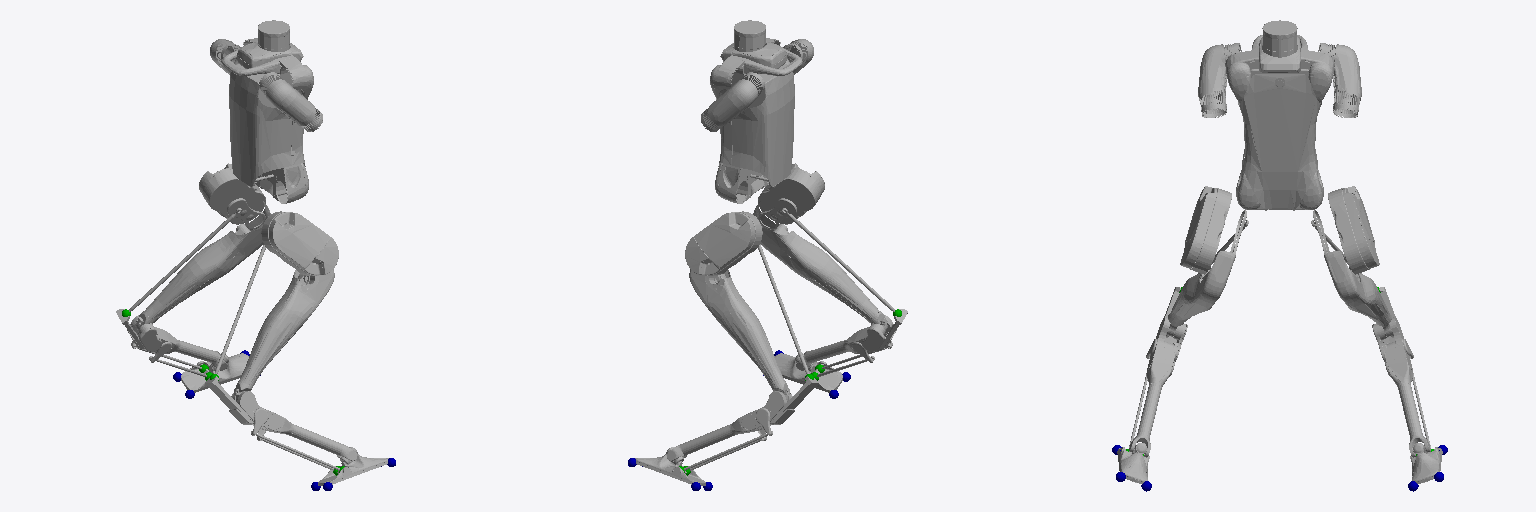
--- What the picture shows (computed from the rendered views, not written in the file) ---
3 views of the same robot in one strip: view 1: azimuth 30°, elevation 25°; view 2: azimuth 150°, elevation 25°; view 3: azimuth 270°, elevation 25° (orthographic).
Model digit with 67 links and 66 joints (40 revolute, 26 fixed), rooted at torso, posed every joint at zero.
Visible links, largest first — view 1: torso, left_shin, right_shin, right_hip_pitch, left_hip_pitch, right_tarsus, right_shoulder_pitch, left_tarsus, left_toe_roll, right_waist_cap, right_toe_roll, right_shoulder_cap (+2 smaller); view 2: torso, right_shin, left_shin, left_hip_pitch, right_hip_pitch, left_tarsus, left_shoulder_pitch, right_tarsus, right_toe_roll, left_waist_cap, left_toe_roll, left_shoulder_cap (+3 smaller); view 3: torso, left_hip_pitch, right_hip_pitch, left_tarsus, right_tarsus, left_shin, right_shin, left_shoulder_pitch, right_shoulder_pitch, left_shoulder_cap, right_shoulder_cap, left_toe_roll (+3 smaller).
Link boxes in pixels (x1,y1,x2,y2): torso: (221, 20, 307, 195); left_shin: (136, 201, 270, 330); right_shin: (234, 269, 334, 401); right_hip_pitch: (261, 211, 338, 275); left_hip_pitch: (199, 163, 265, 229); right_tarsus: (229, 391, 356, 460); right_shoulder_pitch: (259, 72, 322, 131); left_tarsus: (127, 315, 227, 370); left_toe_roll: (181, 353, 248, 392); right_waist_cap: (273, 159, 308, 203); right_toe_roll: (318, 447, 388, 485); right_shoulder_cap: (279, 57, 313, 98); torso: (716, 20, 802, 195); right_shin: (753, 201, 887, 330); left_shin: (689, 269, 789, 401); left_hip_pitch: (685, 211, 762, 275); right_hip_pitch: (758, 163, 824, 229); left_tarsus: (667, 391, 794, 460); left_shoulder_pitch: (701, 72, 764, 131); right_tarsus: (796, 315, 896, 370); right_toe_roll: (775, 353, 842, 392); left_waist_cap: (715, 159, 750, 203); left_toe_roll: (635, 447, 705, 485); left_shoulder_cap: (710, 57, 744, 98); torso: (1238, 20, 1321, 209); left_hip_pitch: (1313, 186, 1379, 274); right_hip_pitch: (1180, 186, 1246, 274); left_tarsus: (1372, 317, 1430, 457); right_tarsus: (1129, 317, 1187, 457); left_shin: (1324, 251, 1393, 337); right_shin: (1166, 251, 1235, 337); left_shoulder_pitch: (1318, 43, 1361, 117); right_shoulder_pitch: (1198, 43, 1241, 117); left_shoulder_cap: (1305, 50, 1334, 103); right_shoulder_cap: (1225, 50, 1254, 103); left_toe_roll: (1410, 443, 1442, 483).
Bounding box of the posed robot: 0.5717 × 0.9632 × 1.42 m (x, y, z).
Meshes: 19 distinct files referenced, 27 mesh visuals loaded (12 binary STL); not drawn: 14 (reference not matched to a file when rendering).

robot.urdf — digit:
<?xml version="1.0" encoding="utf-8"?>
<robot name="digit">

    <link name="torso">
        <inertial>
            <origin rpy="0 0 0" xyz="0.001637 0.0002 0.259547"/>
            <mass value="15.028392"/>
            <inertia ixx="0.376284" ixy="-8.8e-05" ixz="0.008378" iyy="0.342655" iyz="6.7e-05" izz="0.100648"/>
        </inertial>
        <visual>
            <origin rpy="0 0 0" xyz="0 0 0"/>
            <geometry>
                <mesh filename="package://digit_description//meshes_new/torso.stl"/>
            </geometry>

            <material name="LightGrey">
                <color rgba="0.7 0.7 0.7 1.0"/>
            </material>
        </visual>
        <collision>
            <origin rpy="0 0 0" xyz="0 0 0"/>
            <geometry>
                <mesh filename="package://digit_description//meshes_new/torso.stl"/>
            </geometry>
        </collision>
    </link>

    <joint name="left_waist_cap_joint" type="fixed">
        <origin rpy="-1.57079632679 1.57 1.57079632679" xyz="-0.001 0.09 0.0"/>
        <axis xyz="0 0 1"/>
        <parent link="torso"/>
        <child link="left_waist_cap"/>
        <limit effort="1.4" lower="-1.309" upper="1.309" velocity="12.5"/>
    </joint>

    <link name="left_waist_cap">
        <inertial>
            <origin rpy="0 0 0" xyz="9e-06 0.003158 0.023405"/>
            <mass value="0.535396"/>
            <inertia ixx="0.000704" ixy="-1.4e-05" ixz="1.2e-05" iyy="0.00075" iyz="-3.5e-05" izz="0.000298"/>
        </inertial>
        <visual>
            <origin rpy="0 0 0" xyz="0 0 0"/>
            <geometry>
                <mesh filename="package://digit_description//meshes_new/shoulder-roll-housing.stl" scale="1 -1 1"/>
            </geometry>
            <material name="LightGrey">
                <color rgba="0.7 0.7 0.7 1.0"/>
            </material>
        </visual>
        <collision>
            <origin rpy="0 0 0" xyz="0 0 0"/>
            <geometry>
                <mesh filename="package://digit_description//meshes_new/shoulder-roll-housing.stl" scale="1 -1 1"/>
            </geometry>
        </collision>
    </link>

    <joint name="left-hip-roll_joint" type="revolute">
        <origin rpy="1.57079632679 -1.1955506 -1.57079632679" xyz="-0.001 0.091 0"/>
        <axis xyz="0 0 1"/>
        <parent link="torso"/>
        <child link="left_hip_roll"/>
        <limit effort="1.4" lower="-1.0472" upper="1.0472" velocity="12.15"/>
    </joint>
    <link name="left_hip_roll">
        <inertial>
            <origin rpy="0 0 0" xyz="-0.001967 0.000244 0.031435"/>
            <mass value="0.915088"/>
            <inertia ixx="0.001017" ixy="-3e-06" ixz="1.3e-05" iyy="0.001148" iyz="-4e-06" izz="0.000766"/>
        </inertial>
        <visual>
            <origin rpy="0 0 0" xyz="0 0 0"/>
            <geometry>
                <mesh filename="package://digit_description//meshes_new/hip-yaw-housing.stl"/>
            </geometry>

            <material name="LightGrey">
                <color rgba="0.7 0.7 0.7 1.0"/>
            </material>
            <material name="LightGrey">
                <color rgba="0.7 0.7 0.7 1.0"/>
            </material>
        </visual>
        <collision>
            <origin rpy="0 0 0" xyz="0 0 0"/>
            <geometry>
                <mesh filename="package://digit_description//meshes_new/hip-yaw-housing.stl"/>
            </geometry>
        </collision>
    </link>

    <joint name="left_hip_yaw_joint" type="revolute">
        <origin rpy="0 -1.57079632679 0" xyz="-0.0505 0 0.044"/>
        <axis xyz="0 0 1"/>
        <parent link="left_hip_roll"/>
        <child link="left_hip_yaw"/>
        <limit effort="1.4" lower="-0.698132" upper="0.698132" velocity="12.15"/>
    </joint>

    <link name="left_hip_yaw">
        <inertial>
            <origin rpy="0 0 0" xyz="1e-05 -0.001945 0.042033"/>
            <mass value="0.818753"/>
            <inertia ixx="0.001627" ixy="-1e-06" ixz="2e-06" iyy="0.001929" iyz="5.3e-05" izz="0.00077"/>
        </inertial>
        <visual>
            <origin rpy="0 0 0" xyz="0 0 0"/>
            <geometry>
                <mesh filename="package://digit_description//meshes_new/hip-pitch-housing.stl"/>
            </geometry>

            <material name="LightGrey">
                <color rgba="0.7 0.7 0.7 1.0"/>
            </material>
        </visual>
        <collision>
            <origin rpy="0 0 0" xyz="0 0 0"/>
            <geometry>
                <mesh filename="package://digit_description//meshes_new/hip-pitch-housing.stl"/>
            </geometry>
        </collision>
    </link>

    <joint name="left_hip_pitch_joint" type="revolute">
        <origin rpy="-1.57079632679 -0.7853981 3.1415927" xyz="0 0.004 0.068"/>
        <axis xyz="0 0 -1"/>
        <parent link="left_hip_yaw"/>
        <child link="left_hip_pitch"/>
        <limit effort="12.5" lower="-1.0472" upper="1.57079632679" velocity="8.5"/>
    </joint>

    <link name="left_hip_pitch">
        <inertial>
            <origin rpy="0 0 0" xyz="0.060537 0.000521 -0.038857"/>
            <mass value="6.244279"/>
            <inertia ixx="0.011533" ixy="-0.000171" ixz="0.000148" iyy="0.033345" iyz="0.000178" izz="0.033958"/>
        </inertial>
        <visual>
            <origin rpy="0 0 0" xyz="0 0 0"/>
            <geometry>
                <mesh filename="package://digit_description//meshes_new/hip-pitch.stl"/>
            </geometry>

            <material name="LightGrey">
                <color rgba="0.7 0.7 0.7 1.0"/>
            </material>
        </visual>
        <collision>
            <origin rpy="0 0 0" xyz="0 0 0"/>
            <geometry>
                <mesh filename="package://digit_description//meshes_new/hip-pitch.stl"/>
            </geometry>
        </collision>
    </link>

    <joint name="left_achillies_rod_joint1" type="revolute">
        <origin rpy="0.0087529 0.0708516 -1.435541" xyz="0 0 0.046"/>
        <axis xyz="0 1 0"/>
        <parent link="left_hip_pitch"/>
        <child link="left_achillies_rod_parent"/>
        <limit effort="12.5" lower="-1.5" upper="1.5" velocity="8.5085"/>
    </joint>

    <link name="left_achillies_rod_parent"/>

    <joint name="left_achillies_rod_joint2" type="revolute">
        <origin rpy="0 0 0" xyz="0 0 0"/>
        <axis xyz="0 0 1"/>
        <parent link="left_achillies_rod_parent"/>
        <child link="left_achillies_rod"/>
        <limit effort="12.5" lower="-1.5" upper="1.5" velocity="8.5085"/>
    </joint>

    <link name="left_achillies_rod">
        <inertial>
            <origin rpy="0 0 0" xyz="0.2506 0 0"/>
            <mass value="0.178148"/>
            <inertia ixx="3e-06" ixy="0" ixz="0" iyy="0.004501" iyz="0" izz="0.004501"/>
        </inertial>
        <visual>
            <origin rpy="0 0 0" xyz="0 0 0"/>
            <geometry>
                <mesh filename="package://digit_description//meshes_new/achilles-rod.stl"/>
            </geometry>

            <material name="LightGrey">
                <color rgba="0.7 0.7 0.7 1.0"/>
            </material>
        </visual>
        <collision>
            <origin rpy="0 0 0" xyz="0 0 0"/>
            <geometry>
                <mesh filename="package://digit_description//meshes_new/achilles-rod.stl"/>
            </geometry>
        </collision>
    </link>

    <joint name="left_knee_joint" type="revolute">
        <origin rpy="0 0 -1.57079632679" xyz="0.12 0 0.0045"/>
        <axis xyz="0 0 1"/>
        <parent link="left_hip_pitch"/>
        <child link="left_knee"/>
        <limit effort="12.5" lower="-1.2392" upper="0.8727" velocity="8.5085"/>
    </joint>

    <link name="left_knee">
        <inertial>
            <origin rpy="0 0 0" xyz="0.045641 0.042154 0.001657"/>
            <mass value="1.227077"/>
            <inertia ixx="0.002643" ixy="-0.001832" ixz="6.6e-05" iyy="0.005098" iyz="4.5e-05" izz="0.007019"/>
        </inertial>
        <visual>
            <origin rpy="0 0 0" xyz="0 0 0"/>
            <geometry>
                <mesh filename="package://digit_description//meshes_new/knee.stl"/>
            </geometry>

            <material name="LightGrey">
                <color rgba="0.7 0.7 0.7 1.0"/>
            </material>
        </visual>
        <collision>
            <origin rpy="0 0 0" xyz="0 0 0"/>
            <geometry>
                <mesh filename="package://digit_description//meshes_new/knee.stl"/>
            </geometry>
        </collision>
    </link>

    <joint name="left_shin_joint" type="fixed">
        <origin rpy="0 0 0" xyz="0.060677 0.047406 0"/>
        <axis xyz="0 0 1"/>
        <parent link="left_knee"/>
        <child link="left_shin"/>
        <limit effort="0" lower="-0.35" upper="0.35" velocity="10"/>
    </joint>

    <link name="left_shin">
        <inertial>
            <origin rpy="0 0 0" xyz="0.174265 0.010265 0.00107"/>
            <mass value="0.895793"/>
            <inertia ixx="0.001128" ixy="0.001098" ixz="0.000196" iyy="0.022492" iyz="-3e-06" izz="0.022793"/>
        </inertial>
        <visual>
            <origin rpy="0 0 0" xyz="0 0 0"/>
            <geometry>
                <mesh filename="package://digit_description//meshes_new/shin.stl"/>
            </geometry>

            <material name="LightGrey">
                <color rgba="0.7 0.7 0.7 1.0"/>
            </material>
        </visual>
        <collision>
            <origin rpy="0 0 0" xyz="0 0 0"/>
            <geometry>
                <mesh filename="package://digit_description//meshes_new/shin.stl"/>
            </geometry>
        </collision>
    </link>

    <joint name="left_tarsus_joint" type="revolute">
        <origin rpy="0 0 1.7976891" xyz="0.434759 0.02 0"/>
        <axis xyz="0 0 1"/>
        <parent link="left_shin"/>
        <child link="left_tarsus"/>
        <limit effort="0" lower="-0.8779" upper="1.2497" velocity="20"/>
    </joint>

    <link name="left_tarsus">
        <inertial>
            <origin rpy="0 0 0" xyz="0.100777 -0.029183 0.000678"/>
            <mass value="1.322865"/>
            <inertia ixx="0.000932" ixy="0.00061" ixz="0.000102" iyy="0.016409" iyz="9e-06" izz="0.016501"/>
        </inertial>
        <visual>
            <origin rpy="0 0 0" xyz="0 0 0"/>
            <geometry>
                <mesh filename="package://digit_description//meshes_new/tarsus.stl"/>
            </geometry>

            <material name="LightGrey">
                <color rgba="0.7 0.7 0.7 1.0"/>
            </material>
        </visual>
        <collision>
            <origin rpy="0 0 0" xyz="0 0 0"/>
            <geometry>
                <mesh filename="package://digit_description//meshes_new/tarsus.stl"/>
            </geometry>
        </collision>
    </link>

    <joint name="left_heel_spring_joint" type="revolute">
        <origin rpy="-0.0689073 -0.0370354 2.7207176" xyz="-0.01766 -0.029456 0.00104"/>
        <axis xyz="0 0 1"/>
        <parent link="left_tarsus"/>
        <child link="left_heel_spring"/>
        <limit effort="0.9" lower="-0.104719753333" upper="0.104719753333" velocity="11.5"/>
    </joint>

    <link name="left_heel_spring">
        <inertial>
            <origin rpy="0 0 0" xyz="0.049086 0.004739 -4.5e-05"/>
            <mass value="0.230018"/>
            <inertia ixx="5.5e-05" ixy="1.5e-05" ixz="1e-06" iyy="0.00074" iyz="0" izz="0.000701"/>
        </inertial>
        <visual>
            <origin rpy="0 0 0" xyz="0 0 0"/>
            <geometry>
                <mesh filename="package://digit_description//meshes_new/heel-spring.stl"/>
            </geometry>

            <material name="LightGrey">
                <color rgba="0.7 0.7 0.7 1.0"/>
            </material>
        </visual>
        <collision>
            <origin rpy="0 0 0" xyz="0 0 0"/>
            <geometry>
                <mesh filename="package://digit_description//meshes_new/heel-spring.stl"/>
            </geometry>
        </collision>
    </link>

    <joint name="left_toe_A_joint" type="revolute">
        <origin rpy="3.1415927 0 -1.6050048" xyz="0.059 -0.034 -0.0276"/>
        <axis xyz="0 0 1"/>
        <parent link="left_tarsus"/>
        <child link="left_toe_A"/>
        <limit effort="0.9" lower="-0.912807183222" upper="1.2644910215" velocity="11.5"/>
    </joint>

    <link name="left_toe_A">
        <inertial>
            <origin rpy="0 0 0" xyz="0.005161 1e-06 -0.002248"/>
            <mass value="0.139557"/>
            <inertia ixx="2.9e-05" ixy="0" ixz="-4e-06" iyy="5.8e-05" iyz="0" izz="7.4e-05"/>
        </inertial>
        <visual>
            <origin rpy="0 0 0" xyz="0 0 0"/>
            <geometry>
                <mesh filename="package://digit_description//meshes_new/toe-output.stl"/>
            </geometry>

            <material name="LightGrey">
                <color rgba="0.7 0.7 0.7 1.0"/>
            </material>
        </visual>
        <collision>
            <origin rpy="0 0 0" xyz="0 0 0"/>
            <geometry>
                <mesh filename="package://digit_description//meshes_new/toe-output.stl"/>
            </geometry>
        </collision>
    </link>

    <joint name="left_toe_A_rod_parent_joint" type="revolute">
        <origin rpy="-0.0374899 0.0049742 -1.5964351" xyz="0.057 0 -0.008"/>
        <axis xyz="0 1 0"/>
        <parent link="left_toe_A"/>
        <child link="left_toe_A_rod_parent"/>
        <limit effort="0.9" lower="-3.785398163397" upper="3.785398163397" velocity="11.5"/>
    </joint>

    <link name="left_toe_A_rod_parent" />

    <joint name="left_toe_A_rod_joint" type="revolute">
        <origin rpy="0 0 0" xyz="0 0 0"/>
        <axis xyz="0 0 1"/>
        <parent link="left_toe_A_rod_parent"/>
        <child link="left_toe_A_rod"/>
        <limit effort="0.9" lower="-3.785398163397" upper="3.785398163397" velocity="11.5"/>
    </joint>

    <link name="left_toe_A_rod">
        <inertial>
            <origin rpy="0 0 0" xyz="0.171071 0 0"/>
            <mass value="0.090983"/>
            <inertia ixx="1e-06" ixy="0" ixz="0" iyy="0.001182" iyz="0" izz="0.001182"/>
        </inertial>
        <visual>
            <origin rpy="0 0 0" xyz="0 0 0"/>
            <geometry>
                <mesh filename="package://digit_description//meshes_new/toe-A-rod.stl"/>
            </geometry>

            <material name="LightGrey">
                <color rgba="0.7 0.7 0.7 1.0"/>
            </material>
        </visual>
        <collision>
            <origin rpy="0 0 0" xyz="0 0 0"/>
            <geometry>
                <mesh filename="package://digit_description//meshes_new/toe-A-rod.stl"/>
            </geometry>
        </collision>
    </link>

    <joint name="left_toe_B_joint" type="revolute">
        <origin rpy="0 0 -1.6049813" xyz="0.111 -0.034 0.0276"/>
        <axis xyz="0 0 1"/>
        <parent link="left_tarsus"/>
        <child link="left_toe_B"/>
        <limit effort="0.9" lower="-0.912807183222" upper="1.2644910215" velocity="11.5"/>
    </joint>

    <link name="left_toe_B">
        <inertial>
            <origin rpy="0 0 0" xyz="0.005161 1e-06 -0.002248"/>
            <mass value="0.139557"/>
            <inertia ixx="2.9e-05" ixy="0" ixz="-4e-06" iyy="5.8e-05" iyz="0" izz="7.4e-05"/>
        </inertial>
        <visual>
            <origin rpy="0 0 0" xyz="0 0 0"/>
            <geometry>
                <mesh filename="package://digit_description//meshes_new/toe-output.stl"/>
            </geometry>

            <material name="LightGrey">
                <color rgba="0.7 0.7 0.7 1.0"/>
            </material>
        </visual>
        <collision>
            <origin rpy="0 0 0" xyz="0 0 0"/>
            <geometry>
                <mesh filename="package://digit_description//meshes_new/toe-output.stl"/>
            </geometry>
        </collision>
    </link>

    <joint name="left_toe_B_rod_parent_joint" type="revolute">
        <origin rpy="-0.0536482 0.0051326 1.5948474" xyz="0.057 0 -0.008"/>
        <axis xyz="0 1 0"/>
        <parent link="left_toe_B"/>
        <child link="left_toe_B_rod_parent"/>
        <limit effort="0.9" lower="-3.785398163397" upper="3.785398163397" velocity="11.5"/>
    </joint>

    <link name="left_toe_B_rod_parent" />

    <joint name="left_toe_B_rod_joint" type="revolute">
        <origin rpy="0 0 0" xyz="0 0 0"/>
        <axis xyz="0 0 1"/>
        <parent link="left_toe_B_rod_parent"/>
        <child link="left_toe_B_rod"/>
        <limit effort="0.9" lower="-3.785398163397" upper="3.785398163397" velocity="11.5"/>
    </joint>

    <link name="left_toe_B_rod">
        <inertial>
            <origin rpy="0 0 0" xyz="0.142991 0 0"/>
            <mass value="0.079507"/>
            <inertia ixx="1e-06" ixy="0" ixz="0" iyy="0.000768" iyz="0" izz="0.000768"/>
        </inertial>
        <visual>
            <origin rpy="0 0 0" xyz="0 0 0"/>
            <geometry>
                <mesh filename="package://digit_description//meshes_new/toe-B-rod.stl"/>
            </geometry>

            <material name="LightGrey">
                <color rgba="0.7 0.7 0.7 1.0"/>
            </material>
        </visual>
        <collision>
            <origin rpy="0 0 0" xyz="0 0 0"/>
            <geometry>
                <mesh filename="package://digit_description//meshes_new/toe-B-rod.stl"/>
            </geometry>
        </collision>
    </link>

    <joint name="left_toe_pitch_joint" type="revolute">
        <origin rpy="0 0 1.1956" xyz="0.408 -0.04 0"/>
        <axis xyz="0 0 1"/>
        <parent link="left_tarsus"/>
        <child link="left_toe_pitch"/>
        <limit effort="0.9" lower="-0.785398163397" upper="0.785398163397" velocity="11.5"/>
    </joint>

    <link name="left_toe_pitch">
        <inertial>
            <origin rpy="0 0 0" xyz="-0.000141 2e-06 3e-06"/>
            <mass value="0.043881"/>
            <inertia ixx="5e-06" ixy="0" ixz="0" iyy="8e-06" iyz="0" izz="5e-06"/>
        </inertial>
        <visual>
            <origin rpy="0 0 0" xyz="0 0 0"/>
            <geometry>
                <mesh filename="package://digit_description//meshes_new/toe-pitch.stl"/>
            </geometry>

            <material name="LightGrey">
                <color rgba="0.7 0.7 0.7 1.0"/>
            </material>
        </visual>
        <collision>
            <origin rpy="0 0 0" xyz="0 0 0"/>
            <geometry>
                <mesh filename="package://digit_description//meshes_new/toe-pitch.stl"/>
            </geometry>
        </collision>
    </link>

    <joint name="left_toe_roll_joint" type="revolute">
        <origin rpy="0 1.57079632679 0" xyz="0 0 0"/>
        <axis xyz="0 0 1"/>
        <parent link="left_toe_pitch"/>
        <child link="left_toe_roll"/>
        <limit effort="0.9" lower="-0.6109" upper="0.6109" velocity="11.5"/>
    </joint>

    <link name="left_toe_roll">
        <inertial>
            <origin rpy="0 0 0" xyz="9e-06 -0.028084 -0.023204"/>
            <mass value="0.531283"/>
            <inertia ixx="0.00187" ixy="0" ixz="0" iyy="0.001616" iyz="0.000566" izz="0.000843"/>
        </inertial>
        <visual>
            <origin rpy="0 0 0" xyz="0 0 0"/>
            <geometry>
                <mesh filename="package://digit_description//meshes_new/toe-roll.stl"/>
            </geometry>

            <material name="LightGrey">
                <color rgba="0.7 0.7 0.7 1.0"/>
            </material>
        </visual>
        <collision>
            <origin rpy="0 0 0" xyz="0 0 0"/>
            <geometry>
                <mesh filename="package://digit_description//meshes_new/toe-roll.stl"/>
            </geometry>
        </collision>
    </link>

    <joint name="left_shoulder_cap_joint" type="fixed">
        <origin rpy="-1.57079632679 -1.3962633 1.57079632679" xyz="0.001 0.12 0.4"/>
        <axis xyz="0 0 1"/>
        <parent link="torso"/>
        <child link="left_shoulder_cap"/>
        <limit effort="1.4" lower="-1.309" upper="1.309" velocity="12.5"/>
    </joint>

    <link name="left_shoulder_cap">
        <inertial>
            <origin rpy="0 0 0" xyz="9e-06 -0.003158 0.023405"/>
            <mass value="0.535396"/>
            <inertia ixx="0.000704" ixy="1.4e-05" ixz="1.2e-05" iyy="0.00075" iyz="3.5e-05" izz="0.000298"/>
        </inertial>
        <visual>
            <origin rpy="0 0 0" xyz="0 0 0"/>
            <geometry>
                <mesh filename="package://digit_description//meshes_new/shoulder-roll-housing.stl"/>
            </geometry>

            <material name="LightGrey">
                <color rgba="0.7 0.7 0.7 1.0"/>
            </material>
        </visual>
        <collision>
            <origin rpy="0 0 0" xyz="0 0 0"/>
            <geometry>
                <mesh filename="package://digit_description//meshes_new/shoulder-roll-housing.stl"/>
            </geometry>
        </collision>
    </link>

    <joint name="left_shoulder_roll_joint" type="revolute">
        <origin rpy="-1.57079632679 -1.3962633 1.57079632679" xyz="-0.001 0.12 0.4"/>
        <axis xyz="0 0 1"/>
        <parent link="torso"/>
        <child link="left_shoulder_roll"/>
        <limit effort="1.4" lower="-1.309" upper="1.309" velocity="12.5"/>
    </joint>

    <link name="left_shoulder_roll">
        <inertial>
            <origin rpy="0 0 0" xyz="9e-06 -0.003158 0.023405"/>
            <mass value="0.535396"/>
            <inertia ixx="0.000704" ixy="1.4e-05" ixz="1.2e-05" iyy="0.00075" iyz="3.5e-05" izz="0.000298"/>
        </inertial>
        <visual>
            <origin rpy="0 0 0" xyz="0 0 0"/>
            <geometry>
                <mesh filename="package://digit_description//meshes_new/arm-L1.stl"/>
            </geometry>

            <material name="LightGrey">
                <color rgba="0.7 0.7 0.7 1.0"/>
            </material>
        </visual>
        <collision>
            <origin rpy="0 0 0" xyz="0 0 0"/>
            <geometry>
                <mesh filename="package://digit_description//meshes_new/arm-L1.stl"/>
            </geometry>
        </collision>
    </link>

    <joint name="left_shoulder_pitch_joint" type="revolute">
        <origin rpy="1.57079632679 0.785398163397 0.0" xyz="-0.00017 -0.011055 0.0555"/>
        <axis xyz="0 0 -1"/>
        <parent link="left_shoulder_roll"/>
        <child link="left_shoulder_pitch"/>
        <limit effort="1.4" lower="-2.5307" upper="2.5307" velocity="12.5"/>
    </joint>

    <link name="left_shoulder_pitch">
        <inertial>
            <origin rpy="0 0 0" xyz="-4.2e-05 -0.061882 -0.073788"/>
            <mass value="1.440357"/>
            <inertia ixx="0.006761" ixy="-6e-06" ixz="-3e-06" iyy="0.002087" iyz="-0.002046" izz="0.005778"/>
        </inertial>
        <visual>
            <origin rpy="0 0 0" xyz="0 0 0"/>
            <geometry>
                <mesh filename="package://digit_description//meshes_new/arm-L2.stl"/>
            </geometry>
            <material name="LightGrey">
                <color rgba="0.7 0.7 0.7 1.0"/>
            </material>
        </visual>
        <collision>
            <origin rpy="0 0 0" xyz="0 0 0"/>
            <geometry>
                <mesh filename="package://digit_description//meshes_new/arm-L2.stl"/>
            </geometry>
        </collision>
    </link>

    <joint name="shoulder_yaw_joint_left" type="revolute">
        <origin rpy="1.57079632679 0 0" xyz="0 -0.165 -0.1"/>
        <axis xyz="0 0 1"/>
        <parent link="left_shoulder_pitch"/>
        <child link="left_shoulder_yaw"/>
        <limit effort="1.4" lower="-1.7453" upper="1.7453" velocity="10"/>
    </joint>

    <link name="left_shoulder_yaw">
        <inertial>
            <origin rpy="0 0 0" xyz="-3e-05 -0.001937 0.11407"/>
            <mass value="1.065387"/>
            <inertia ixx="0.006967" ixy="1e-06" ixz="-1e-06" iyy="0.007003" iyz="1.5e-05" izz="0.000673"/>
        </inertial>
        <visual>
            <origin rpy="0 0 0" xyz="0 0 0"/>
            <geometry>
                <mesh filename="package://digit_description//meshes_new/arm-L3.stl"/>
            </geometry>

            <material name="LightGrey">
                <color rgba="0.7 0.7 0.7 1.0"/>
            </material>
        </visual>
        <collision>
            <origin rpy="0 0 0" xyz="0 0 0"/>
            <geometry>
                <mesh filename="package://digit_description//meshes_new/arm-L3.stl"/>
            </geometry>
        </collision>
    </link>

    <joint name="left_elbow_joint" type="revolute">
        <origin rpy="1.57079632679 -0.3926991 0" xyz="0 -0.0385 0.185"/>
        <axis xyz="0 0 1"/>
        <parent link="left_shoulder_yaw"/>
        <child link="left_elbow"/>
        <limit effort="1.4" lower="-1.3526" upper="1.3526" velocity="12.5"/>
    </joint>

    <link name="left_elbow">
        <inertial>
            <origin rpy="0 0 0" xyz="0.107996 -0.000521 -0.017765"/>
            <mass value="0.550582"/>
            <inertia ixx="0.000476" ixy="-2.9e-05" ixz="0.001403" iyy="0.009564" iyz="9e-06" izz="0.009437"/>
        </inertial>
        <visual>
            <origin rpy="0 0 0" xyz="0 0 0"/>
            <geometry>
                <mesh filename="package://digit_description//meshes_new/arm-L4.stl"/>
            </geometry>

            <material name="LightGrey">
                <color rgba="0.7 0.7 0.7 1.0"/>
            </material>
        </visual>
        <collision>
            <origin rpy="0 0 0" xyz="0 0 0"/>
            <geometry>
                <mesh filename="package://digit_description//meshes_new/arm-L4.stl"/>
            </geometry>
        </collision>
    </link>


    <joint name="right_waist_cap_joint" type="fixed">
        <origin rpy="1.57079632679 1.57 -1.57079632679" xyz="-0.001 -0.09 0.0"/>
        <axis xyz="0 0 1"/>
        <parent link="torso"/>
        <child link="right_waist_cap"/>
        <limit effort="1.4" lower="-1.309" upper="1.309" velocity="12.5"/>
    </joint>

    <link name="right_waist_cap">
        <inertial>
            <origin rpy="0 0 0" xyz="9e-06 -0.003158 0.023405"/>
            <mass value="0.535396"/>
            <inertia ixx="0.000704" ixy="1.4e-05" ixz="1.2e-05" iyy="0.00075" iyz="3.5e-05" izz="0.000298"/>
        </inertial>
        <visual>
            <origin rpy="0 0 0" xyz="0 0 0"/>
            <geometry>
                <mesh filename="package://digit_description//meshes_new/shoulder-roll-housing.stl"/>
            </geometry>
            <material name="LightGrey">
                <color rgba="0.7 0.7 0.7 1.0"/>
            </material>
        </visual>
        <collision>
            <origin rpy="0 0 0" xyz="0 0 0"/>
            <geometry>
                <mesh filename="package://digit_description//meshes_new/shoulder-roll-housing.stl"/>
            </geometry>
        </collision>
    </link>

    <joint name="right-hip-roll_joint" type="revolute">
        <origin rpy="-1.57079632679 -1.1955506 1.57079632679" xyz="-0.001 -0.091 0"/>
        <axis xyz="0 0 1"/>
        <parent link="torso"/>
        <child link="right_hip_roll"/>
        <limit effort="1.4" lower="-1.0472" upper="1.0472" velocity="12.15"/>
    </joint>
    <link name="right_hip_roll">
        <inertial>
            <origin rpy="0 0 0" xyz="-0.001967 -0.000244 0.031435"/>
            <mass value="0.915088"/>
            <inertia ixx="0.001017" ixy="3e-06" ixz="1.3e-05" iyy="0.001148" iyz="4e-06" izz="0.000766"/>
        </inertial>
        <visual>
            <origin rpy="0 0 0" xyz="0 0 0"/>
            <geometry>
                <mesh filename="package://digit_description//meshes_new/hip-yaw-housing.stl" scale="1 -1 1"/>
            </geometry>

            <material name="LightGrey">
                <color rgba="0.7 0.7 0.7 1.0"/>
            </material>
            <material name="LightGrey">
                <color rgba="0.7 0.7 0.7 1.0"/>
            </material>
        </visual>
        <collision>
            <origin rpy="0 0 0" xyz="0 0 0"/>
            <geometry>
                <mesh filename="package://digit_description//meshes_new/hip-yaw-housing.stl" scale="1 -1 1"/>
            </geometry>
        </collision>
    </link>

    <joint name="right_hip_yaw_joint" type="revolute">
        <origin rpy="0 -1.57079632679 0" xyz="-0.0505 0 0.044"/>
        <axis xyz="0 0 1"/>
        <parent link="right_hip_roll"/>
        <child link="right_hip_yaw"/>
        <limit effort="1.4" lower="-0.698132" upper="0.698132" velocity="12.15"/>
    </joint>

    <link name="right_hip_yaw">
        <inertial>
            <origin rpy="0 0 0" xyz="1e-05 0.001945 0.042033"/>
            <mass value="0.818753"/>
            <inertia ixx="0.001627" ixy="1e-06" ixz="2e-06" iyy="0.001929" iyz="-5.3e-05" izz="0.00077"/>
        </inertial>
        <visual>
            <origin rpy="0 0 0" xyz="0 0 0"/>
            <geometry>
                <mesh filename="package://digit_description//meshes_new/hip-pitch-housing.stl" scale="1 -1 1"/>
            </geometry>

            <material name="LightGrey">
                <color rgba="0.7 0.7 0.7 1.0"/>
            </material>
        </visual>
        <collision>
            <origin rpy="0 0 0" xyz="0 0 0"/>
            <geometry>
                <mesh filename="package://digit_description//meshes_new/hip-pitch-housing.stl" scale="1 -1 1"/>
            </geometry>
        </collision>
    </link>

    <joint name="right_hip_pitch_joint" type="revolute">
        <origin rpy="1.57079632679 -0.7853981 -3.1415927" xyz="0 -0.004 0.068"/>
        <axis xyz="0 0 -1"/>
        <parent link="right_hip_yaw"/>
        <child link="right_hip_pitch"/>
        <limit effort="12.5" lower="-1.0472" upper="1.57079632679" velocity="8.5"/>
    </joint>

    <link name="right_hip_pitch">
        <inertial>
            <origin rpy="0 0 0" xyz="0.060537 -0.000521 -0.038857"/>
            <mass value="6.244279"/>
            <inertia ixx="0.011533" ixy="0.000171" ixz="0.000148" iyy="0.033345" iyz="-0.000178" izz="0.033958"/>
        </inertial>
        <visual>
            <origin rpy="0 0 0" xyz="0 0 0"/>
            <geometry>
                <mesh filename="package://digit_description//meshes_new/hip-pitch.stl" scale="1 -1 1"/>
            </geometry>

            <material name="LightGrey">
                <color rgba="0.7 0.7 0.7 1.0"/>
            </material>
        </visual>
        <collision>
            <origin rpy="0 0 0" xyz="0 0 0"/>
            <geometry>
                <mesh filename="package://digit_description//meshes_new/hip-pitch.stl" scale="1 -1 1"/>
            </geometry>
        </collision>
    </link>

    <joint name="right_achillies_rod_joint1" type="revolute">
        <origin rpy="-0.0087529 0.0708516 1.435541" xyz="0 0 0.046"/>
        <axis xyz="0 1 0"/>
        <parent link="right_hip_pitch"/>
        <child link="right_achillies_rod_parent"/>
        <limit effort="12.5" lower="-1.5" upper="1.5" velocity="8.5085"/>
    </joint>

    <link name="right_achillies_rod_parent"/>

    <joint name="right_achillies_rod_joint2" type="revolute">
        <origin rpy="0 0 0" xyz="0 0 0"/>
        <axis xyz="0 0 1"/>
        <parent link="right_achillies_rod_parent"/>
        <child link="right_achillies_rod"/>
        <limit effort="12.5" lower="-1.5" upper="1.5" velocity="8.5085"/>
    </joint>

    <link name="right_achillies_rod">
        <inertial>
            <origin rpy="0 0 0" xyz="0.2506 0 0"/>
            <mass value="0.178148"/>
            <inertia ixx="3e-06" ixy="0" ixz="0" iyy="0.004501" iyz="0" izz="0.004501"/>
        </inertial>
        <visual>
            <origin rpy="0 0 0" xyz="0 0 0"/>
            <geometry>
                <mesh filename="package://digit_description//meshes_new/achilles-rod.stl" scale="1 -1 1"/>
            </geometry>

            <material name="LightGrey">
                <color rgba="0.7 0.7 0.7 1.0"/>
            </material>
        </visual>
        <collision>
            <origin rpy="0 0 0" xyz="0 0 0"/>
            <geometry>
                <mesh filename="package://digit_description//meshes_new/achilles-rod.stl" scale="1 -1 1"/>
            </geometry>
        </collision>
    </link>

    <joint name="right_knee_joint" type="revolute">
        <origin rpy="0 0 1.57079632679" xyz="0.12 0 0.0045"/>
        <axis xyz="0 0 1"/>
        <parent link="right_hip_pitch"/>
        <child link="right_knee"/>
        <limit effort="12.5" lower="-0.8727" upper="1.2392" velocity="8.5085"/>
    </joint>

    <link name="right_knee">
        <inertial>
            <origin rpy="0 0 0" xyz="0.045641 -0.042154 0.001657"/>
            <mass value="1.227077"/>
            <inertia ixx="0.002643" ixy="0.001832" ixz="6.6e-05" iyy="0.005098" iyz="-4.5e-05" izz="0.007019"/>
        </inertial>
        <visual>
            <origin rpy="0 0 0" xyz="0 0 0"/>
            <geometry>
                <mesh filename="package://digit_description//meshes_new/knee.stl" scale="1 -1 1"/>
            </geometry>

            <material name="LightGrey">
                <color rgba="0.7 0.7 0.7 1.0"/>
            </material>
        </visual>
        <collision>
            <origin rpy="0 0 0" xyz="0 0 0"/>
            <geometry>
                <mesh filename="package://digit_description//meshes_new/knee.stl" scale="1 -1 1"/>
            </geometry>
        </collision>
    </link>

    <joint name="right_shin_joint" type="fixed">
        <origin rpy="0 0 0" xyz="0.060677 -0.047406 0"/>
        <axis xyz="0 0 1"/>
        <parent link="right_knee"/>
        <child link="right_shin"/>
        <limit effort="0" lower="-0.35" upper="0.35" velocity="10"/>
    </joint>

    <link name="right_shin">
        <inertial>
            <origin rpy="0 0 0" xyz="0.174265 -0.010265 0.00107"/>
            <mass value="0.895793"/>
            <inertia ixx="0.001128" ixy="-0.001098" ixz="0.000196" iyy="0.022492" iyz="3e-06" izz="0.022793"/>
        </inertial>
        <visual>
            <origin rpy="0 0 0" xyz="0 0 0"/>
            <geometry>
                <mesh filename="package://digit_description//meshes_new/shin.stl" scale="1 -1 1"/>
            </geometry>

            <material name="LightGrey">
                <color rgba="0.7 0.7 0.7 1.0"/>
            </material>
        </visual>
        <collision>
            <origin rpy="0 0 0" xyz="0 0 0"/>
            <geometry>
                <mesh filename="package://digit_description//meshes_new/shin.stl" scale="1 -1 1"/>
            </geometry>
        </collision>
    </link>

    <joint name="right_tarsus_joint" type="revolute">
        <origin rpy="0 0 -1.7976891" xyz="0.434759 -0.02 0"/>
        <axis xyz="0 0 1"/>
        <parent link="right_shin"/>
        <child link="right_tarsus"/>
        <limit effort="0" lower="-1.2497" upper="0.8779" velocity="20"/>
    </joint>

    <link name="right_tarsus">
        <inertial>
            <origin rpy="0 0 0" xyz="0.100777 0.029183 0.000678"/>
            <mass value="1.322865"/>
            <inertia ixx="0.000932" ixy="-0.00061" ixz="0.000102" iyy="0.016409" iyz="-9e-06" izz="0.016501"/>
        </inertial>
        <visual>
            <origin rpy="0 0 0" xyz="0 0 0"/>
            <geometry>
                <mesh filename="package://digit_description//meshes_new/tarsus.stl" scale="1 -1 1"/>
            </geometry>

            <material name="LightGrey">
                <color rgba="0.7 0.7 0.7 1.0"/>
            </material>
        </visual>
        <collision>
            <origin rpy="0 0 0" xyz="0 0 0"/>
            <geometry>
                <mesh filename="package://digit_description//meshes_new/tarsus.stl" scale="1 -1 1"/>
            </geometry>
        </collision>
    </link>

    <joint name="right_heel_spring_joint" type="revolute">
        <origin rpy="0.0689073 -0.0370354 -2.7207176" xyz="-0.01766 0.029456 0.00104"/>
        <axis xyz="0 0 1"/>
        <parent link="right_tarsus"/>
        <child link="right_heel_spring"/>
        <limit effort="0.9" lower="-0.104719753333" upper="0.104719753333" velocity="11.5"/>
    </joint>

    <link name="right_heel_spring">
        <inertial>
            <origin rpy="0 0 0" xyz="0.049086 -0.004739 -4.5e-05"/>
            <mass value="0.230018"/>
            <inertia ixx="5.5e-05" ixy="-1.5e-05" ixz="1e-06" iyy="0.00074" iyz="0" izz="0.000701"/>
        </inertial>
        <visual>
            <origin rpy="0 0 0" xyz="0 0 0"/>
            <geometry>
                <mesh filename="package://digit_description//meshes_new/heel-spring.stl" scale="1 -1 1"/>
            </geometry>

            <material name="LightGrey">
                <color rgba="0.7 0.7 0.7 1.0"/>
            </material>
        </visual>
        <collision>
            <origin rpy="0 0 0" xyz="0 0 0"/>
            <geometry>
                <mesh filename="package://digit_description//meshes_new/heel-spring.stl" scale="1 -1 1"/>
            </geometry>
        </collision>
    </link>

    <joint name="right_toe_A_joint" type="revolute">
        <origin rpy="-3.1415927 0 1.6050048" xyz="0.059 0.034 -0.0276"/>
        <axis xyz="0 0 1"/>
        <parent link="right_tarsus"/>
        <child link="right_toe_A"/>
        <limit effort="0.9" lower="-1.2644910215" upper="0.912807183222" velocity="11.5"/>
    </joint>

    <link name="right_toe_A">
        <inertial>
            <origin rpy="0 0 0" xyz="0.005161 -1e-06 -0.002248"/>
            <mass value="0.139557"/>
            <inertia ixx="2.9e-05" ixy="0" ixz="-4e-06" iyy="5.8e-05" iyz="0" izz="7.4e-05"/>
        </inertial>
        <visual>
            <origin rpy="0 0 0" xyz="0 0 0"/>
            <geometry>
                <mesh filename="package://digit_description//meshes_new/toe-output.stl" scale="1 -1 1"/>
            </geometry>

            <material name="LightGrey">
                <color rgba="0.7 0.7 0.7 1.0"/>
            </material>
        </visual>
        <collision>
            <origin rpy="0 0 0" xyz="0 0 0"/>
            <geometry>
                <mesh filename="package://digit_description//meshes_new/toe-output.stl" scale="1 -1 1"/>
            </geometry>
        </collision>
    </link>

    <joint name="right_toe_A_rod_parent_joint" type="revolute">
        <origin rpy="0.0374899 0.0049742 1.5964351" xyz="0.057 0 -0.008"/>
        <axis xyz="0 1 0"/>
        <parent link="right_toe_A"/>
        <child link="right_toe_A_rod_parent"/>
        <limit effort="0.9" lower="-3.785398163397" upper="3.785398163397" velocity="11.5"/>
    </joint>

    <link name="right_toe_A_rod_parent" />

    <joint name="right_toe_A_rod_joint" type="revolute">
        <origin rpy="0 0 0" xyz="0 0 0"/>
        <axis xyz="0 0 1"/>
        <parent link="right_toe_A_rod_parent"/>
        <child link="right_toe_A_rod"/>
        <limit effort="0.9" lower="-3.785398163397" upper="3.785398163397" velocity="11.5"/>
    </joint>

    <link name="right_toe_A_rod">
        <inertial>
            <origin rpy="0 0 0" xyz="0.171071 0 0"/>
            <mass value="0.090983"/>
            <inertia ixx="1e-06" ixy="0" ixz="0" iyy="0.001182" iyz="0" izz="0.001182"/>
        </inertial>
        <visual>
            <origin rpy="0 0 0" xyz="0 0 0"/>
            <geometry>
                <mesh filename="package://digit_description//meshes_new/toe-A-rod.stl" scale="1 -1 1"/>
            </geometry>

            <material name="LightGrey">
                <color rgba="0.7 0.7 0.7 1.0"/>
            </material>
        </visual>
        <collision>
            <origin rpy="0 0 0" xyz="0 0 0"/>
            <geometry>
                <mesh filename="package://digit_description//meshes_new/toe-A-rod.stl" scale="1 -1 1"/>
            </geometry>
        </collision>
    </link>

    <joint name="right_toe_B_joint" type="revolute">
        <origin rpy="0 0 1.6049813" xyz="0.111 0.034 0.0276"/>
        <axis xyz="0 0 1"/>
        <parent link="right_tarsus"/>
        <child link="right_toe_B"/>
        <limit effort="0.9" lower="-0.912807183222" upper="1.2644910215" velocity="11.5"/>
    </joint>

    <link name="right_toe_B">
        <inertial>
            <origin rpy="0 0 0" xyz="0.005161 -1e-06 -0.002248"/>
            <mass value="0.139557"/>
            <inertia ixx="2.9e-05" ixy="0" ixz="-4e-06" iyy="5.8e-05" iyz="0" izz="7.4e-05"/>
        </inertial>
        <visual>
            <origin rpy="0 0 0" xyz="0 0 0"/>
            <geometry>
                <mesh filename="package://digit_description//meshes_new/toe-output.stl" scale="1 -1 1"/>
            </geometry>

            <material name="LightGrey">
                <color rgba="0.7 0.7 0.7 1.0"/>
            </material>
        </visual>
        <collision>
            <origin rpy="0 0 0" xyz="0 0 0"/>
            <geometry>
                <mesh filename="package://digit_description//meshes_new/toe-output.stl" scale="1 -1 1"/>
            </geometry>
        </collision>
    </link>

    <joint name="right_toe_B_rod_parent_joint" type="revolute">
        <origin rpy="0.0536482 0.0051326 -1.5948474" xyz="0.057 0 -0.008"/>
        <axis xyz="0 1 0"/>
        <parent link="right_toe_B"/>
        <child link="right_toe_B_rod_parent"/>
        <limit effort="0.9" lower="-3.785398163397" upper="3.785398163397" velocity="11.5"/>
    </joint>

    <link name="right_toe_B_rod_parent" />

    <joint name="right_toe_B_rod_joint" type="revolute">
        <origin rpy="0 0 0" xyz="0 0 0"/>
        <axis xyz="0 0 1"/>
        <parent link="right_toe_B_rod_parent"/>
        <child link="right_toe_B_rod"/>
        <limit effort="0.9" lower="-3.785398163397" upper="3.785398163397" velocity="11.5"/>
    </joint>

    <link name="right_toe_B_rod">
        <inertial>
            <origin rpy="0 0 0" xyz="0.142991 0 0"/>
            <mass value="0.079507"/>
            <inertia ixx="1e-06" ixy="0" ixz="0" iyy="0.000768" iyz="0" izz="0.000768"/>
        </inertial>
        <visual>
            <origin rpy="0 0 0" xyz="0 0 0"/>
            <geometry>
                <mesh filename="package://digit_description//meshes_new/toe-B-rod.stl" scale="1 -1 1"/>
            </geometry>

            <material name="LightGrey">
                <color rgba="0.7 0.7 0.7 1.0"/>
            </material>
        </visual>
        <collision>
            <origin rpy="0 0 0" xyz="0 0 0"/>
            <geometry>
                <mesh filename="package://digit_description//meshes_new/toe-B-rod.stl" scale="1 -1 1"/>
            </geometry>
        </collision>
    </link>

    <joint name="right_toe_pitch_joint" type="revolute">
        <origin rpy="0 0 -1.1956" xyz="0.408 0.04 0"/>
        <axis xyz="0 0 1"/>
        <parent link="right_tarsus"/>
        <child link="right_toe_pitch"/>
        <limit effort="0.9" lower="-0.785398163397" upper="0.785398163397" velocity="11.5"/>
    </joint>

    <link name="right_toe_pitch">
        <inertial>
            <origin rpy="0 0 0" xyz="-0.000141 -2e-06 3e-06"/>
            <mass value="0.043881"/>
            <inertia ixx="5e-06" ixy="0" ixz="0" iyy="8e-06" iyz="0" izz="5e-06"/>
        </inertial>
        <visual>
            <origin rpy="0 0 0" xyz="0 0 0"/>
            <geometry>
                <mesh filename="package://digit_description//meshes_new/toe-pitch.stl" scale="1 -1 1"/>
            </geometry>

            <material name="LightGrey">
                <color rgba="0.7 0.7 0.7 1.0"/>
            </material>
        </visual>
        <collision>
            <origin rpy="0 0 0" xyz="0 0 0"/>
            <geometry>
                <mesh filename="package://digit_description//meshes_new/toe-pitch.stl" scale="1 -1 1"/>
            </geometry>
        </collision>
    </link>

    <joint name="right_toe_roll_joint" type="revolute">
        <origin rpy="0 1.57079632679 0" xyz="0 0 0"/>
        <axis xyz="0 0 1"/>
        <parent link="right_toe_pitch"/>
        <child link="right_toe_roll"/>
        <limit effort="0.9" lower="-0.6109" upper="0.6109" velocity="11.5"/>
    </joint>

    <link name="right_toe_roll">
        <inertial>
            <origin rpy="0 0 0" xyz="9e-06 0.028084 -0.023204"/>
            <mass value="0.531283"/>
            <inertia ixx="0.00187" ixy="0" ixz="0" iyy="0.001616" iyz="-0.000566" izz="0.000843"/>
        </inertial>
        <visual>
            <origin rpy="0 0 0" xyz="0 0 0"/>
            <geometry>
                <mesh filename="package://digit_description//meshes_new/toe-roll.stl" scale="1 -1 1"/>
            </geometry>

            <material name="LightGrey">
                <color rgba="0.7 0.7 0.7 1.0"/>
            </material>
        </visual>
        <collision>
            <origin rpy="0 0 0" xyz="0 0 0"/>
            <geometry>
                <mesh filename="package://digit_description//meshes_new/toe-roll.stl" scale="1 -1 1"/>
            </geometry>
        </collision>
    </link>

    <joint name="right_shoulder_cap_joint" type="fixed">
        <origin rpy="1.57079632679 -1.3962633 -1.57079632679" xyz="0.001 -0.12 0.4"/>
        <axis xyz="0 0 1"/>
        <parent link="torso"/>
        <child link="right_shoulder_cap"/>
        <limit effort="1.4" lower="-1.309" upper="1.309" velocity="12.5"/>
    </joint>

    <link name="right_shoulder_cap">
        <inertial>
            <origin rpy="0 0 0" xyz="9e-06 0.003158 0.023405"/>
            <mass value="0.535396"/>
            <inertia ixx="0.000704" ixy="-1.4e-05" ixz="1.2e-05" iyy="0.00075" iyz="-3.5e-05" izz="0.000298"/>
        </inertial>
        <visual>
            <origin rpy="0 0 0" xyz="0 0 0"/>
            <geometry>
                <mesh filename="package://digit_description//meshes_new/shoulder-roll-housing.stl" scale="1 -1 1"/>
            </geometry>

            <material name="LightGrey">
                <color rgba="0.7 0.7 0.7 1.0"/>
            </material>
        </visual>
        <collision>
            <origin rpy="0 0 0" xyz="0 0 0"/>
            <geometry>
                <mesh filename="package://digit_description//meshes_new/shoulder-roll-housing.stl" scale="1 -1 1"/>
            </geometry>
        </collision>
    </link>

    <joint name="right_shoulder_roll_joint" type="revolute">
        <origin rpy="1.57079632679 -1.3962633 -1.57079632679" xyz="-0.001 -0.12 0.4"/>
        <axis xyz="0 0 1"/>
        <parent link="torso"/>
        <child link="right_shoulder_roll"/>
        <limit effort="1.4" lower="-1.309" upper="1.309" velocity="12.5"/>
    </joint>

    <link name="right_shoulder_roll">
        <inertial>
            <origin rpy="0 0 0" xyz="9e-06 -0.003158 0.023405"/>
            <mass value="0.535396"/>
            <inertia ixx="0.000704" ixy="-1.4e-05" ixz="1.2e-05" iyy="0.00075" iyz="-3.5e-05" izz="0.000298"/>
        </inertial>
        <visual>
            <origin rpy="0 0 0" xyz="0 0 0"/>
            <geometry>
                <mesh filename="package://digit_description//meshes_new/arm-L1.stl" scale="1 -1 1"/>
            </geometry>

            <material name="LightGrey">
                <color rgba="0.7 0.7 0.7 1.0"/>
            </material>
        </visual>
        <collision>
            <origin rpy="0 0 0" xyz="0 0 0"/>
            <geometry>
                <mesh filename="package://digit_description//meshes_new/arm-L1.stl" scale="1 -1 1"/>
            </geometry>
        </collision>
    </link>

    <joint name="right_shoulder_pitch_joint" type="revolute">
        <origin rpy="-1.57079632679 0.785398163397 0.0" xyz="-0.00017 0.011055 0.0555"/>
        <axis xyz="0 0 -1"/>
        <parent link="right_shoulder_roll"/>
        <child link="right_shoulder_pitch"/>
        <limit effort="1.4" lower="-2.5307" upper="2.5307" velocity="12.5"/>
    </joint>

    <link name="right_shoulder_pitch">
        <inertial>
            <origin rpy="0 0 0" xyz="-4.2e-05 0.061882 -0.073788"/>
            <mass value="1.440357"/>
            <inertia ixx="0.006761" ixy="6e-06" ixz="-3e-06" iyy="0.002087" iyz="0.002046" izz="0.005778"/>
        </inertial>
        <visual>
            <origin rpy="0 0 0" xyz="0 0 0"/>
            <geometry>
                <mesh filename="package://digit_description//meshes_new/arm-L2.stl" scale="1 -1 1"/>
            </geometry>
            <material name="LightGrey">
                <color rgba="0.7 0.7 0.7 1.0"/>
            </material>
        </visual>
        <collision>
            <origin rpy="0 0 0" xyz="0 0 0"/>
            <geometry>
                <mesh filename="package://digit_description//meshes_new/arm-L2.stl" scale="1 -1 1"/>
            </geometry>
        </collision>
    </link>

    <joint name="shoulder_yaw_joint_right" type="revolute">
        <origin rpy="-1.57079632679 0 0" xyz="0 0.165 -0.1"/>
        <axis xyz="0 0 1"/>
        <parent link="right_shoulder_pitch"/>
        <child link="right_shoulder_yaw"/>
        <limit effort="1.4" lower="-1.7453" upper="1.7453" velocity="10"/>
    </joint>

    <link name="right_shoulder_yaw">
        <inertial>
            <origin rpy="0 0 0" xyz="-3e-05 -0.001937 0.11407"/>
            <mass value="1.065387"/>
            <inertia ixx="0.006967" ixy="-1e-06" ixz="-1e-06" iyy="0.007003" iyz="-1.5e-05" izz="0.000673"/>
        </inertial>
        <visual>
            <origin rpy="0 0 0" xyz="0 0 0"/>
            <geometry>
                <mesh filename="package://digit_description//meshes_new/arm-L3.stl" scale="1 -1 1"/>
            </geometry>

            <material name="LightGrey">
                <color rgba="0.7 0.7 0.7 1.0"/>
            </material>
        </visual>
        <collision>
            <origin rpy="0 0 0" xyz="0 0 0"/>
            <geometry>
                <mesh filename="package://digit_description//meshes_new/arm-L3.stl" scale="1 -1 1"/>
            </geometry>
        </collision>
    </link>

    <joint name="right_elbow_joint" type="revolute">
        <origin rpy="-1.57079632679 -0.3926991 0" xyz="0 0.0385 0.185"/>
        <axis xyz="0 0 1"/>
        <parent link="right_shoulder_yaw"/>
        <child link="right_elbow"/>
        <limit effort="1.4" lower="-1.3526" upper="1.3526" velocity="12.5"/>
    </joint>

    <link name="right_elbow">
        <inertial>
            <origin rpy="0 0 0" xyz="0.107996 0.000521 -0.017765"/>
            <mass value="0.550582"/>
            <inertia ixx="0.000476" ixy="2.9e-05" ixz="0.001403" iyy="0.009564" iyz="-9e-06" izz="0.009437"/>
        </inertial>
        <visual>
            <origin rpy="0 0 0" xyz="0 0 0"/>
            <geometry>
                <mesh filename="package://digit_description//meshes_new/arm-L4.stl" scale="1 -1 1"/>
            </geometry>

            <material name="LightGrey">
                <color rgba="0.7 0.7 0.7 1.0"/>
            </material>
        </visual>
        <collision>
            <origin rpy="0 0 0" xyz="0 0 0"/>
            <geometry>
                <mesh filename="package://digit_description//meshes_new/arm-L4.stl" scale="1 -1 1"/>
            </geometry>
        </collision>
    </link>

    <joint name="cp_left_achillies_rod_joint" type="fixed">
        <origin rpy="0 0 0" xyz="0.501194 -1.28948e-05 -5.20307e-06"/>
        <axis xyz="0 0 1"/>
        <parent link="left_achillies_rod"/>
        <child link="cp_left_achillies_rod"/>
    </joint>

    <link name="cp_left_achillies_rod">
        <visual>
            <origin rpy="0 0 0" xyz="0 0 0"/>
            <geometry>
                <sphere radius="0.010"/>
            </geometry>
            <material name="LightPurple">
                <color rgba="0.6 0.1 0.9 0.7"/>
            </material>
        </visual>
    </link>

    <joint name="cp_left_heel_spring_joint" type="fixed">
        <origin rpy="0 0 0" xyz="0.113789 -0.011056 0"/>
        <axis xyz="0 0 1"/>
        <parent link="left_heel_spring"/>
        <child link="cp_left_heel_spring"/>
    </joint>

    <link name="cp_left_heel_spring">
        <visual>
            <origin rpy="0 0 0" xyz="0 0 0"/>
            <geometry>
                <sphere radius="0.015"/>
            </geometry>
            <material name="LightGreen">
                <color rgba="0.0 0.7 0.0 0.7"/>
            </material>
        </visual>
    </link>

    <joint name="cp_right_achillies_rod_joint" type="fixed">
        <origin rpy="0 0 0" xyz="0.501194 -1.28948e-05 -5.20307e-06"/>
        <axis xyz="0 0 1"/>
        <parent link="right_achillies_rod"/>
        <child link="cp_right_achillies_rod"/>
    </joint>

    <link name="cp_right_achillies_rod">
        <visual>
            <origin rpy="0 0 0" xyz="0 0 0"/>
            <geometry>
                <sphere radius="0.010"/>
            </geometry>
            <material name="LightPurple">
                <color rgba="0.6 0.1 0.9 0.7"/>
            </material>
        </visual>
    </link>

    <joint name="cp_right_heel_spring_joint" type="fixed">
        <origin rpy="0 0 0" xyz="0.113789 0.011056 0"/>
        <axis xyz="0 0 1"/>
        <parent link="right_heel_spring"/>
        <child link="cp_right_heel_spring"/>
    </joint>

    <link name="cp_right_heel_spring">
        <visual>
            <origin rpy="0 0 0" xyz="0 0 0"/>
            <geometry>
                <sphere radius="0.015"/>
            </geometry>
            <material name="LightGreen">
                <color rgba="0.0 0.7 0.0 0.7"/>
            </material>
        </visual>
    </link>

    <joint name="cp_left_toe_A_rod_joint" type="fixed">
        <origin rpy="0 0 0" xyz="0.340004 1.61352e-05 -8.14295e-06"/>
        <axis xyz="0 0 1"/>
        <parent link="left_toe_A_rod"/>
        <child link="cp_left_toe_A_rod"/>
    </joint>

    <link name="cp_left_toe_A_rod">
        <visual>
            <origin rpy="0 0 0" xyz="0 0 0"/>
            <geometry>
                <sphere radius="0.010"/>
            </geometry>
            <material name="LightPurple">
                <color rgba="0.6 0.1 0.9 0.7"/>
            </material>
        </visual>
    </link>

    <joint name="cp_left_toe_roll_A_joint" type="fixed">
        <origin rpy="0 0 0" xyz="0.0179 -0.009551 -0.054164"/>
        <axis xyz="0 0 1"/>
        <parent link="left_toe_roll"/>
        <child link="cp_left_toe_roll_A"/>
    </joint>

    <link name="cp_left_toe_roll_A">
        <visual>
            <origin rpy="0 0 0" xyz="0 0 0"/>
            <geometry>
                <sphere radius="0.015"/>
            </geometry>
            <material name="LightGreen">
                <color rgba="0.0 0.7 0.0 0.7"/>
            </material>
        </visual>
    </link>

    <joint name="cp_left_toe_B_rod_joint" type="fixed">
        <origin rpy="0 0 0" xyz="0.288005 -9.72801e-06 -2.23467e-05"/>
        <axis xyz="0 0 1"/>
        <parent link="left_toe_B_rod"/>
        <child link="cp_left_toe_B_rod"/>
    </joint>

    <link name="cp_left_toe_B_rod">
        <visual>
            <origin rpy="0 0 0" xyz="0 0 0"/>
            <geometry>
                <sphere radius="0.010"/>
            </geometry>
            <material name="LightPurple">
                <color rgba="0.6 0.1 0.9 0.7"/>
            </material>
        </visual>
    </link>

    <joint name="cp_left_toe_roll_B_joint" type="fixed">
        <origin rpy="0 0 0" xyz="-0.0181 -0.009551 -0.054164"/>
        <axis xyz="0 0 1"/>
        <parent link="left_toe_roll"/>
        <child link="cp_left_toe_roll_B"/>
    </joint>

    <link name="cp_left_toe_roll_B">
        <visual>
            <origin rpy="0 0 0" xyz="0 0 0"/>
            <geometry>
                <sphere radius="0.015"/>
            </geometry>
            <material name="LightGreen">
                <color rgba="0.0 0.7 0.0 0.7"/>
            </material>
        </visual>
    </link>

    <joint name="cp_right_toe_A_rod_joint" type="fixed">
        <origin rpy="0 0 0" xyz="0.340004 1.61352e-05 -8.14295e-06"/>
        <axis xyz="0 0 1"/>
        <parent link="right_toe_A_rod"/>
        <child link="cp_right_toe_A_rod"/>
    </joint>

    <link name="cp_right_toe_A_rod">
        <visual>
            <origin rpy="0 0 0" xyz="0 0 0"/>
            <geometry>
                <sphere radius="0.010"/>
            </geometry>
            <material name="LightPurple">
                <color rgba="0.6 0.1 0.9 0.7"/>
            </material>
        </visual>
    </link>

    <joint name="cp_right_toe_roll_A_joint" type="fixed">
        <origin rpy="0 0 0" xyz="0.0179 0.009551 -0.054164"/>
        <axis xyz="0 0 1"/>
        <parent link="right_toe_roll"/>
        <child link="cp_right_toe_roll_A"/>
    </joint>

    <link name="cp_right_toe_roll_A">
        <visual>
            <origin rpy="0 0 0" xyz="0 0 0"/>
            <geometry>
                <sphere radius="0.015"/>
            </geometry>
            <material name="LightGreen">
                <color rgba="0.0 0.7 0.0 0.7"/>
            </material>
        </visual>
    </link>

    <joint name="cp_right_toe_B_rod_joint" type="fixed">
        <origin rpy="0 0 0" xyz="0.288005 -9.72801e-06 -2.23467e-05"/>
        <axis xyz="0 0 1"/>
        <parent link="right_toe_B_rod"/>
        <child link="cp_right_toe_B_rod"/>
    </joint>

    <link name="cp_right_toe_B_rod">
        <visual>
            <origin rpy="0 0 0" xyz="0 0 0"/>
            <geometry>
                <sphere radius="0.010"/>
            </geometry>
            <material name="LightPurple">
                <color rgba="0.6 0.1 0.9 0.7"/>
            </material>
        </visual>
    </link>

    <joint name="cp_right_toe_roll_B_joint" type="fixed">
        <origin rpy="0 0 0" xyz="-0.0181 0.009551 -0.054164"/>
        <axis xyz="0 0 1"/>
        <parent link="right_toe_roll"/>
        <child link="cp_right_toe_roll_B"/>
    </joint>

    <link name="cp_right_toe_roll_B">
        <visual>
            <origin rpy="0 0 0" xyz="0 0 0"/>
            <geometry>
                <sphere radius="0.015"/>
            </geometry>
            <material name="LightGreen">
                <color rgba="0.0 0.7 0.0 0.7"/>
            </material>
        </visual>
    </link>

    <link name="contact1">
        <visual>
            <origin rpy="0 0 0" xyz="-0.04000014 -0.11085709 0.07003817"/>
            <geometry>
                <sphere radius="0.015"/>
            </geometry>
            <material name="LightBlue">
                <color rgba="0.0 0.0 0.7 0.7"/>
            </material>
        </visual>
    </link>
    <link name="contact2">
        <visual>
            <origin rpy="0 0 0" xyz="0.03999983 -0.11082681 0.07005585"/>
            <geometry>
                <sphere radius="0.015"/>
            </geometry>
            <material name="LightBlue">
                <color rgba="0.0 0.0 0.7 0.7"/>
            </material>
        </visual>
    </link>
    <link name="contact3">
        <visual>
            <origin rpy="0 0 0" xyz="-0.04000029 0.00799069 -0.13385178"/>
            <geometry>
                <sphere radius="0.015"/>
            </geometry>
            <material name="LightBlue">
                <color rgba="0.0 0.0 0.7 0.7"/>
            </material>
        </visual>
    </link>
    <link name="contact4">
        <visual>
            <origin rpy="0 0 0" xyz="0.03999968 0.00802097 -0.13383410"/>
            <geometry>
                <sphere radius="0.015"/>
            </geometry>
            <material name="LightBlue">
                <color rgba="0.0 0.0 0.7 0.7"/>
            </material>
        </visual>
    </link>
    <link name="contact5">
        <visual>
            <origin rpy="0 0 0" xyz="0.03999945 0.11063009 0.07017034"/>
            <geometry>
                <sphere radius="0.015"/>
            </geometry>
            <material name="LightBlue">
                <color rgba="0.0 0.0 0.7 0.7"/>
            </material>
        </visual>
    </link>
    <link name="contact6">
        <visual>
            <origin rpy="0 0 0" xyz="-0.04000014 0.11085020 0.07004217"/>
            <geometry>
                <sphere radius="0.015"/>
            </geometry>
            <material name="LightBlue">
                <color rgba="0.0 0.0 0.7 0.7"/>
            </material>
        </visual>
    </link>
    <link name="contact7">
        <visual>
            <origin rpy="0 0 0" xyz="0.03999968 -0.00801787 -0.13383595"/>
            <geometry>
                <sphere radius="0.015"/>
            </geometry>
            <material name="LightBlue">
                <color rgba="0.0 0.0 0.7 0.7"/>
            </material>
        </visual>
    </link>
    <link name="contact8">
        <visual>
            <origin rpy="0 0 0" xyz="-0.04000029 -0.00798741 -0.13385373"/>
            <geometry>
                <sphere radius="0.015"/>
            </geometry>
            <material name="LightBlue">
                <color rgba="0.0 0.0 0.7 0.7"/>
            </material>
        </visual>
    </link>

    <joint name="contact1_joint" type="fixed">
        <origin rpy="0 0 0" xyz="0 0 0"/>
        <parent link="left_toe_roll"/>
        <child link="contact1"/>
    </joint>
    <joint name="contact2_joint" type="fixed">
        <origin rpy="0 0 0" xyz="0 0 0"/>
        <parent link="left_toe_roll"/>
        <child link="contact2"/>
    </joint>
    <joint name="contact3_joint" type="fixed">
        <origin rpy="0 0 0" xyz="0 0 0"/>
        <parent link="left_toe_roll"/>
        <child link="contact3"/>
    </joint>
    <joint name="contact4_joint" type="fixed">
        <origin rpy="0 0 0" xyz="0 0 0"/>
        <parent link="left_toe_roll"/>
        <child link="contact4"/>
    </joint>
    <joint name="contact5_joint" type="fixed">
        <origin rpy="0 0 0" xyz="0 0 0"/>
        <parent link="right_toe_roll"/>
        <child link="contact5"/>
    </joint>
    <joint name="contact6_joint" type="fixed">
        <origin rpy="0 0 0" xyz="0 0 0"/>
        <parent link="right_toe_roll"/>
        <child link="contact6"/>
    </joint>
    <joint name="contact7_joint" type="fixed">
        <origin rpy="0 0 0" xyz="0 0 0"/>
        <parent link="right_toe_roll"/>
        <child link="contact7"/>
    </joint>
    <joint name="contact8_joint" type="fixed">
        <origin rpy="0 0 0" xyz="0 0 0"/>
        <parent link="right_toe_roll"/>
        <child link="contact8"/>
    </joint>

</robot>
